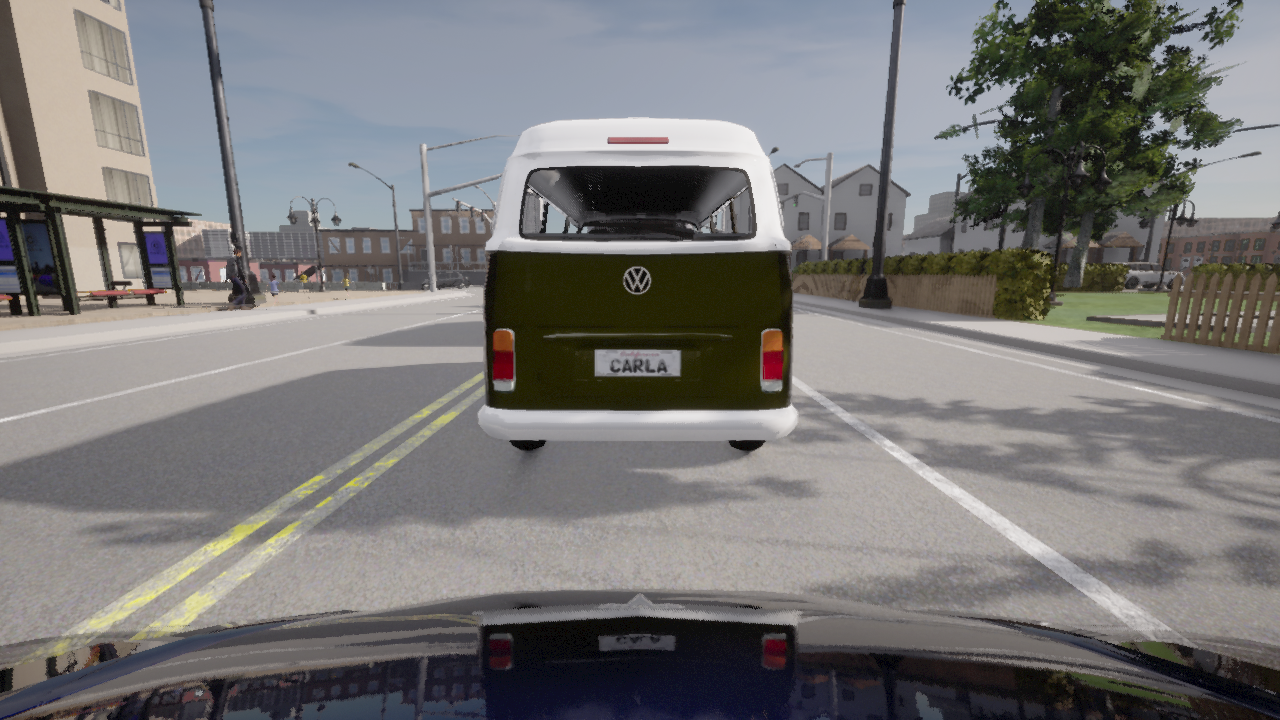cyclist: (0, 588, 1279, 719), (478, 118, 797, 450), (1113, 262, 1185, 289), (420, 271, 471, 290)
pedestrian: (224, 248, 251, 311), (265, 274, 284, 309), (341, 273, 352, 300), (297, 270, 308, 281)
